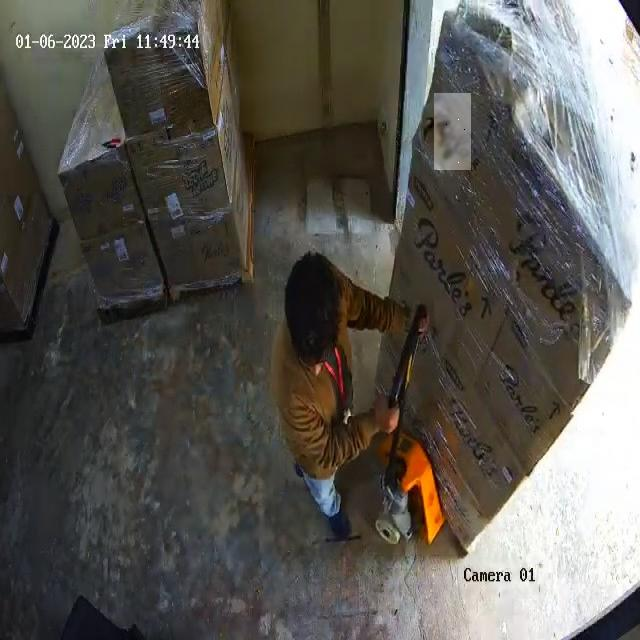leakage: (435, 94, 470, 169)
